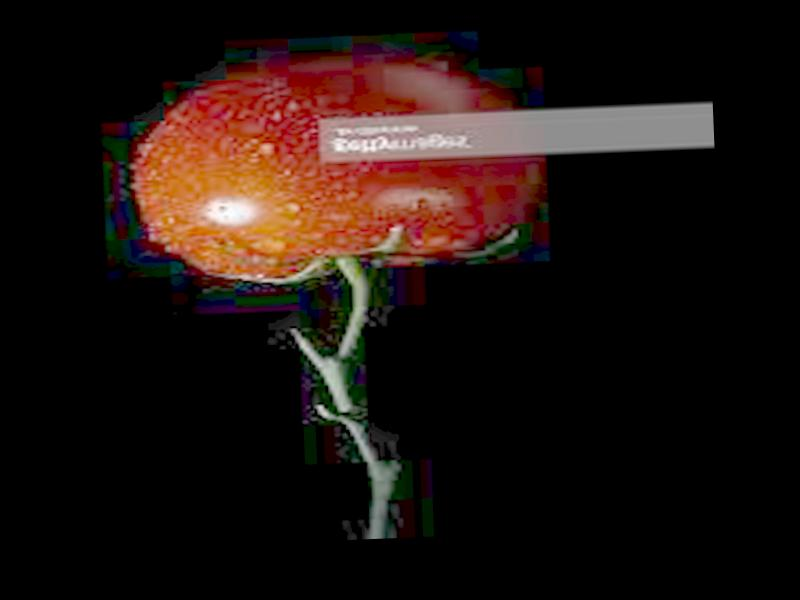Tomato: (132, 57, 530, 281)
